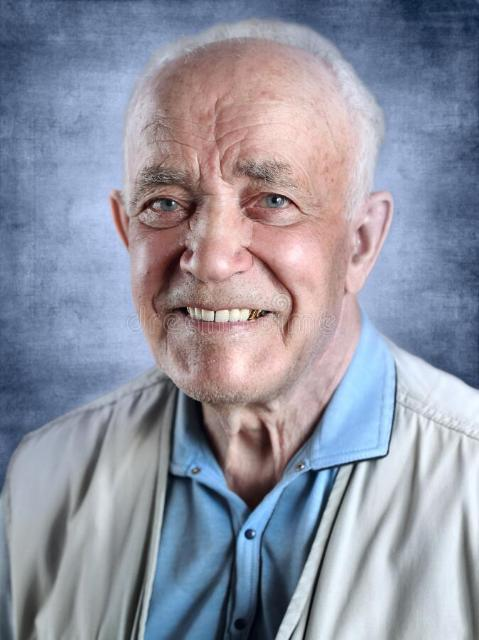forehead: (145, 114, 187, 156), (206, 92, 224, 138)
frown_line: (194, 150, 231, 192)
gummy_smile: (246, 244, 296, 294)
sad_smile: (142, 285, 168, 333), (280, 307, 302, 348)
